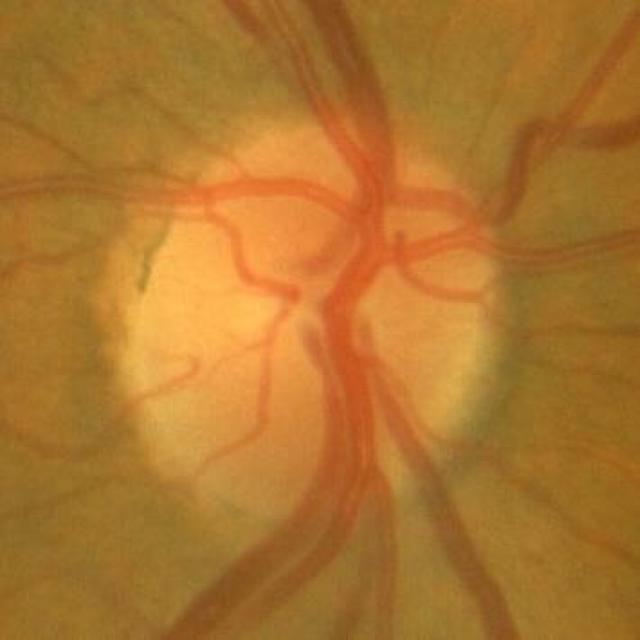OC: (276, 266, 386, 372)
OD: (110, 116, 498, 524)
